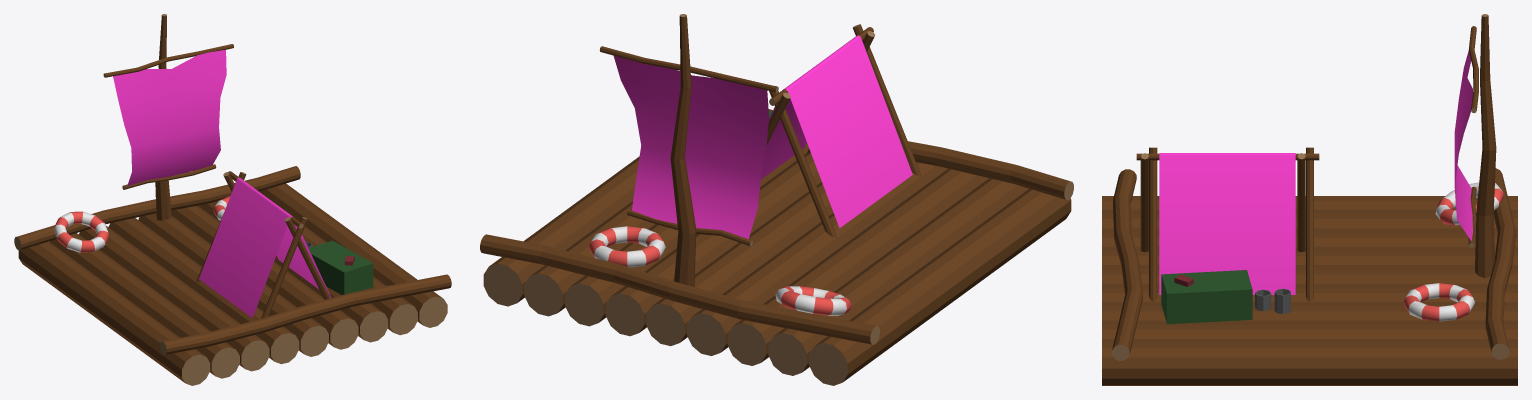
The model's file is Balsa.fbx.
The picture shows the model from 3 angles, left to right: view 1: azimuth 30°, elevation 25°; view 2: azimuth 150°, elevation 25°; view 3: azimuth 270°, elevation 25°; orthographic projection. The views are drawn at different scales.
Parts seen in each view (by area): view 1: Madera.001; view 2: Madera.001; view 3: Madera.001.
Boxes of the visible parts, <box> form: Madera.001: <box>14,14,451,385</box>; Madera.001: <box>480,14,1073,385</box>; Madera.001: <box>1102,14,1517,385</box>.
Bounding box in the file's own units: 809 × 628 × 805.
